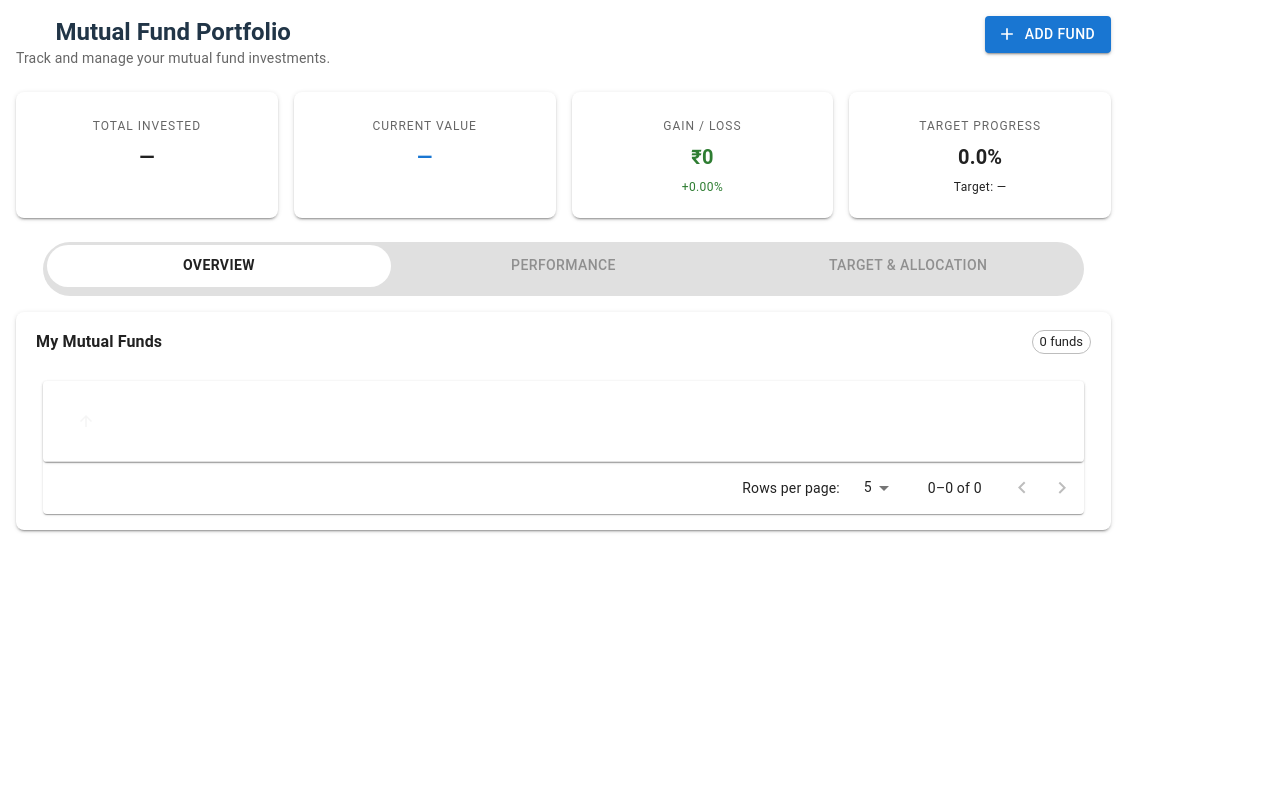
Test: AssetManagement Component › switches to Performance tab
Click the tab "Performance": (564, 266) [391, 245, 736, 286]
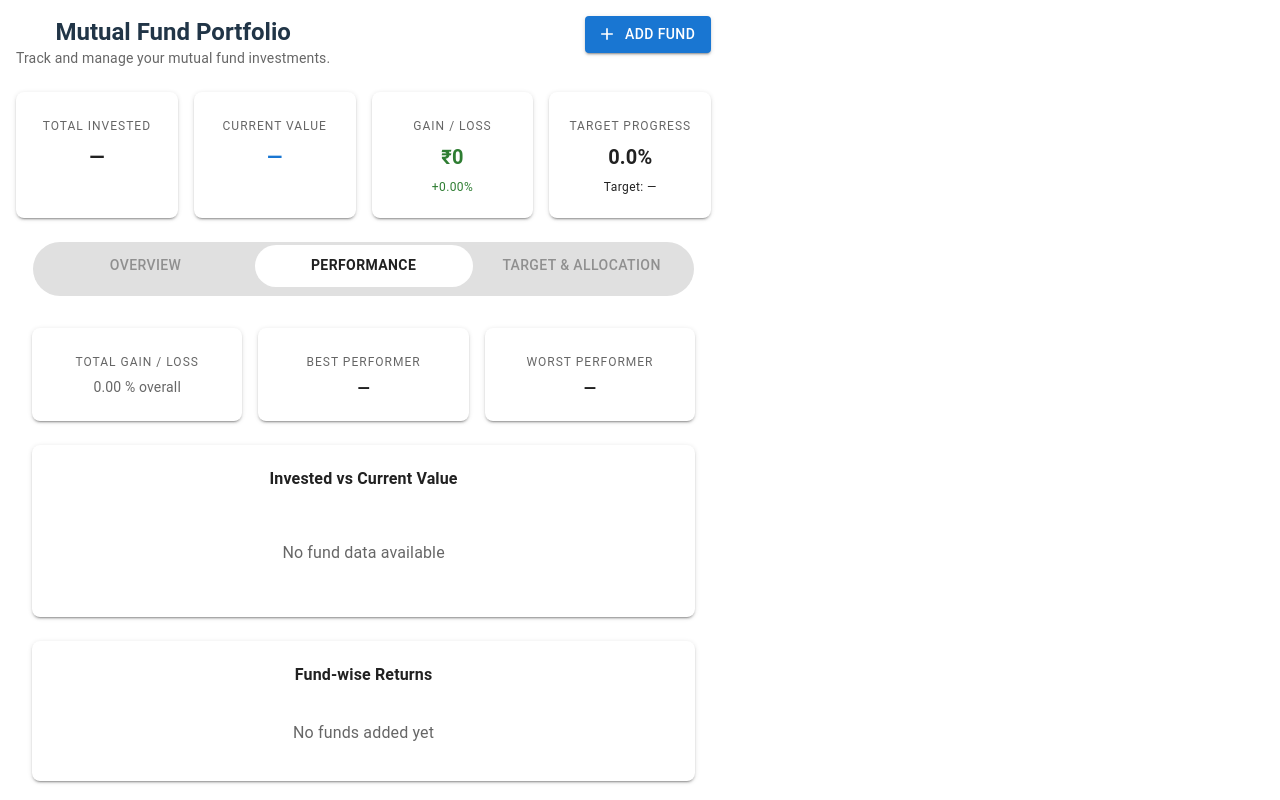
Check: the text "Best Performer" is shown, box [306, 355, 421, 369]
